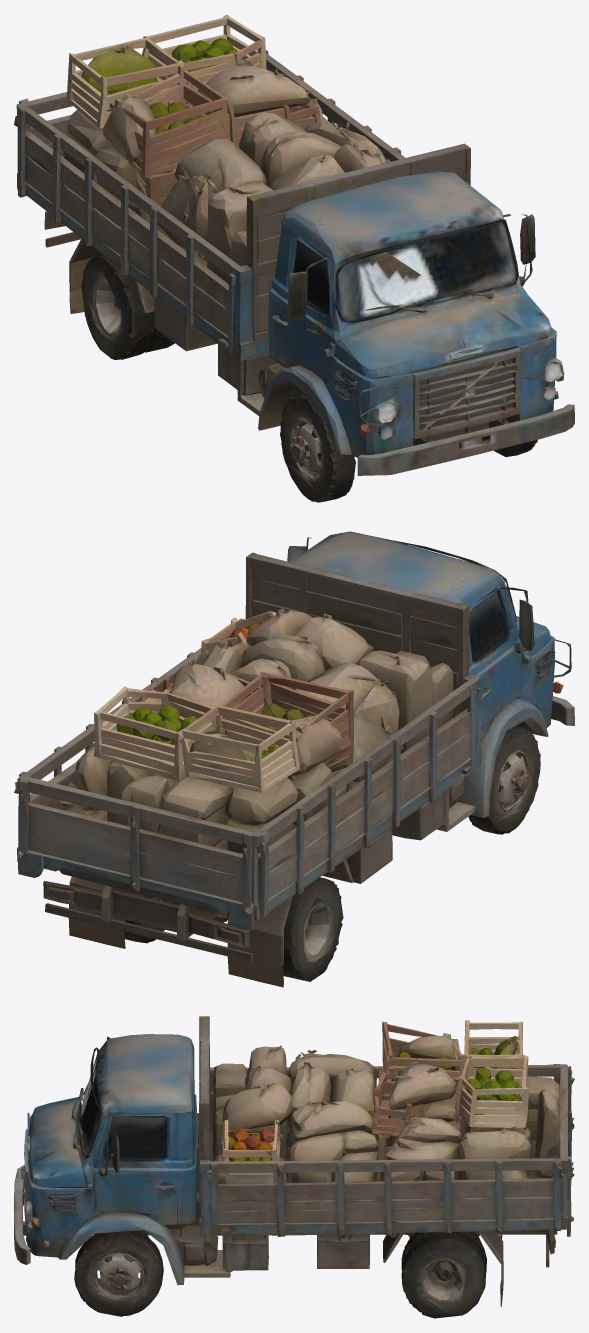
Rendered from civ_cargo.glb.
3 views of the same model, one above another, from view 1: azimuth 30°, elevation 25°; view 2: azimuth 150°, elevation 25°; view 3: azimuth 270°, elevation 25° (orthographic). The views are drawn at different scales.
Parts seen in each view (by area): view 1: civ_cargo; view 2: civ_cargo; view 3: civ_cargo.
Boxes of the visible parts, x1=… form: civ_cargo: x1=14, y1=14, x2=574, y2=502; civ_cargo: x1=14, y1=531, x2=574, y2=987; civ_cargo: x1=14, y1=1016, x2=574, y2=1318.
Bounding box in the file's own units: 2.76 × 2.84 × 6.5.
Materials: 1 (1 with a texture image).
